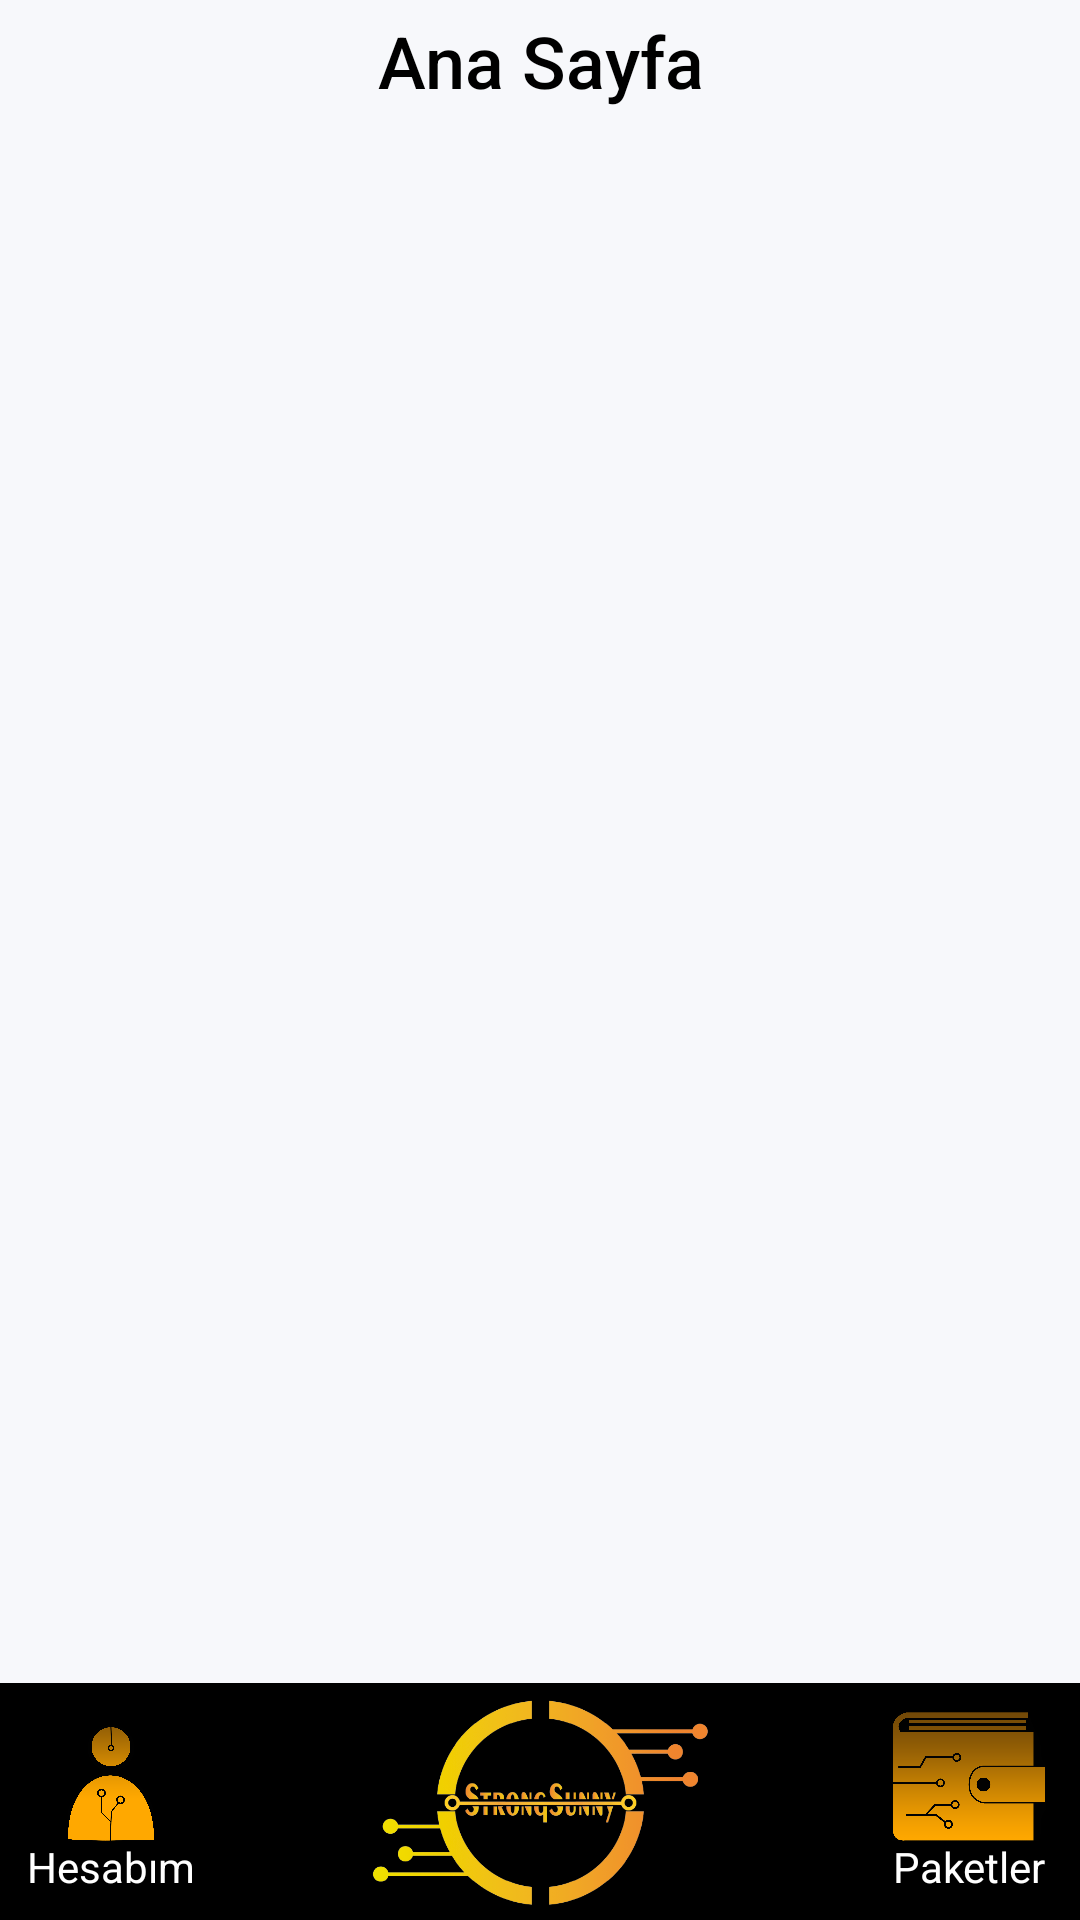

Point at icon controls on the screen. Image size 1080x1920, points as [x,y].
cuzdantwo: [969,1776]
